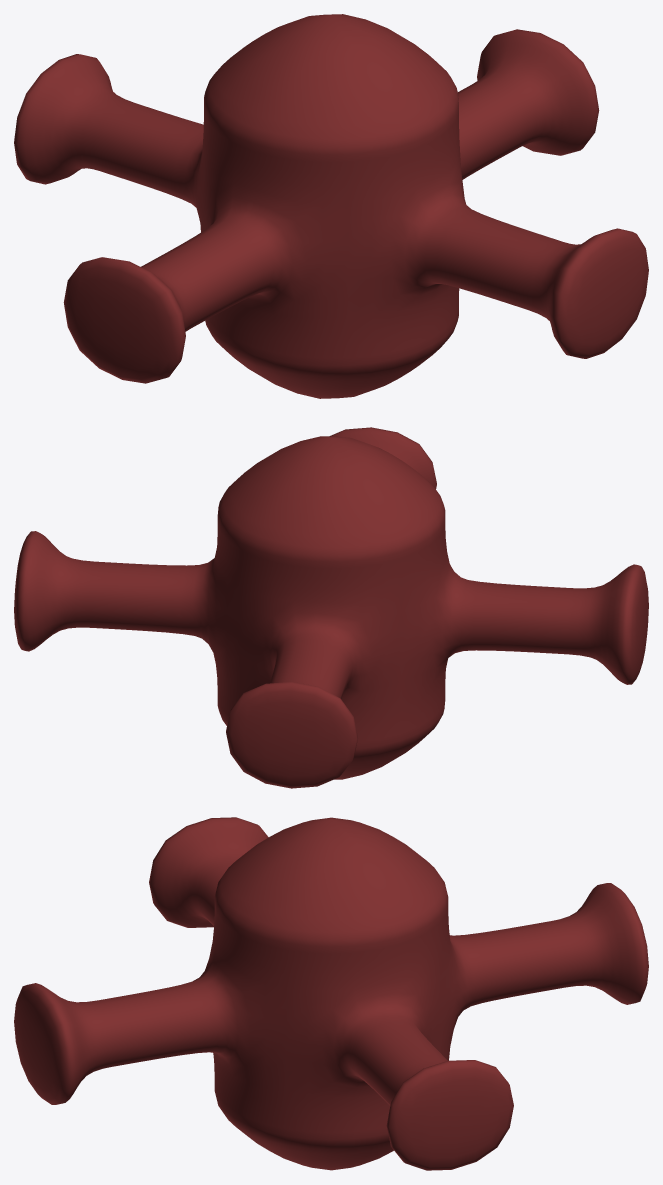
The model's file is enemy.fbx.
The picture shows the model from 3 angles, top to bottom: view 1: azimuth 30°, elevation 25°; view 2: azimuth 150°, elevation 25°; view 3: azimuth 270°, elevation 25°; orthographic projection. The views are drawn at different scales.
Parts seen in each view (by area): view 1: pCylinder1; view 2: pCylinder1; view 3: pCylinder1.
Boxes of the visible parts, <box> form: pCylinder1: <box>14,14,648,398</box>; pCylinder1: <box>14,427,648,788</box>; pCylinder1: <box>14,817,648,1170</box>.
Bounding box in the file's own units: 44.72 × 27.09 × 44.72.
